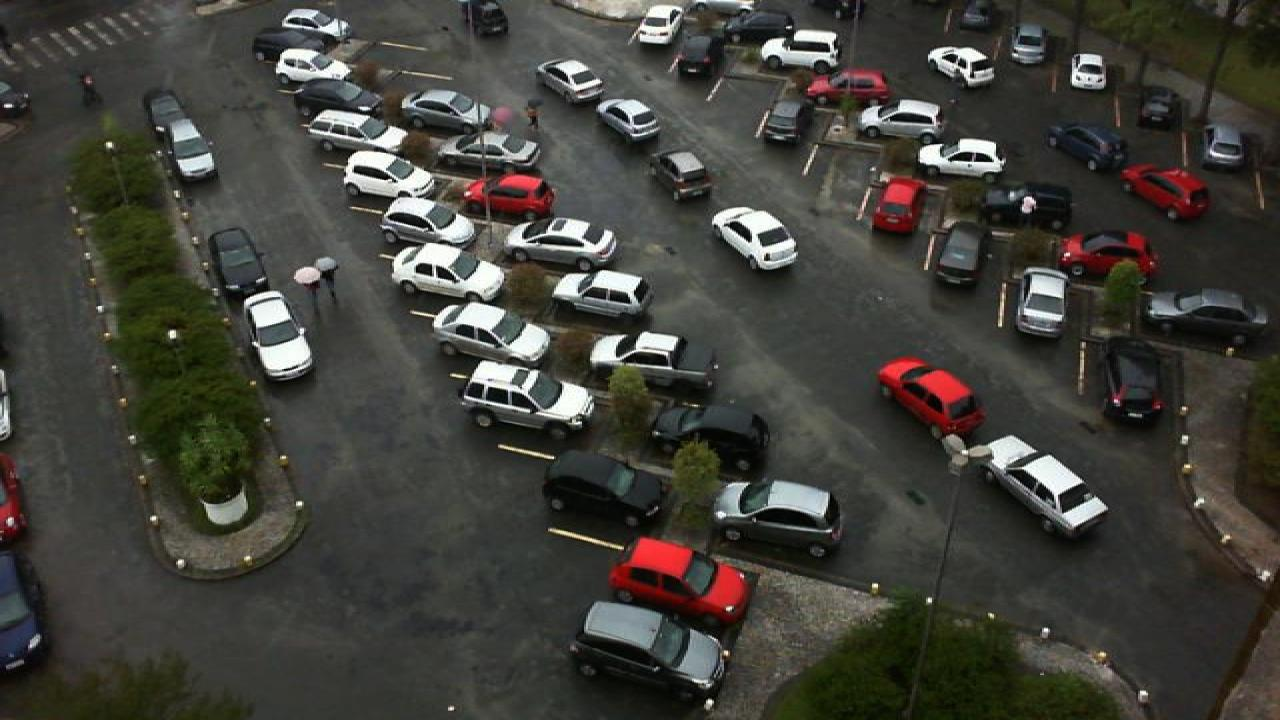Car: (564, 600, 730, 706), (606, 533, 756, 630), (980, 434, 1110, 542), (458, 359, 598, 440), (710, 477, 846, 559), (538, 450, 668, 529), (648, 400, 770, 476), (588, 328, 718, 393), (432, 300, 554, 366), (388, 240, 508, 302), (240, 289, 318, 383), (1146, 287, 1270, 346), (502, 216, 618, 271), (1100, 336, 1164, 428), (378, 196, 476, 252), (338, 148, 436, 202), (1058, 231, 1160, 282), (206, 226, 272, 303), (550, 269, 654, 317), (460, 171, 556, 222), (306, 108, 408, 155), (434, 130, 542, 174), (982, 181, 1074, 232), (396, 87, 492, 132), (1014, 265, 1068, 341), (160, 116, 220, 181), (914, 137, 1006, 178), (756, 30, 840, 74), (290, 78, 380, 119), (870, 174, 928, 236), (936, 218, 988, 287), (860, 98, 944, 140), (804, 68, 894, 105), (926, 45, 996, 89), (272, 49, 354, 86), (250, 26, 332, 62), (672, 24, 726, 78), (714, 9, 796, 43), (756, 98, 814, 143), (142, 87, 192, 135), (1200, 124, 1248, 174), (278, 8, 352, 38), (1134, 86, 1180, 132), (634, 5, 682, 48), (1008, 23, 1046, 64), (1070, 52, 1108, 92), (956, 0, 998, 35)
